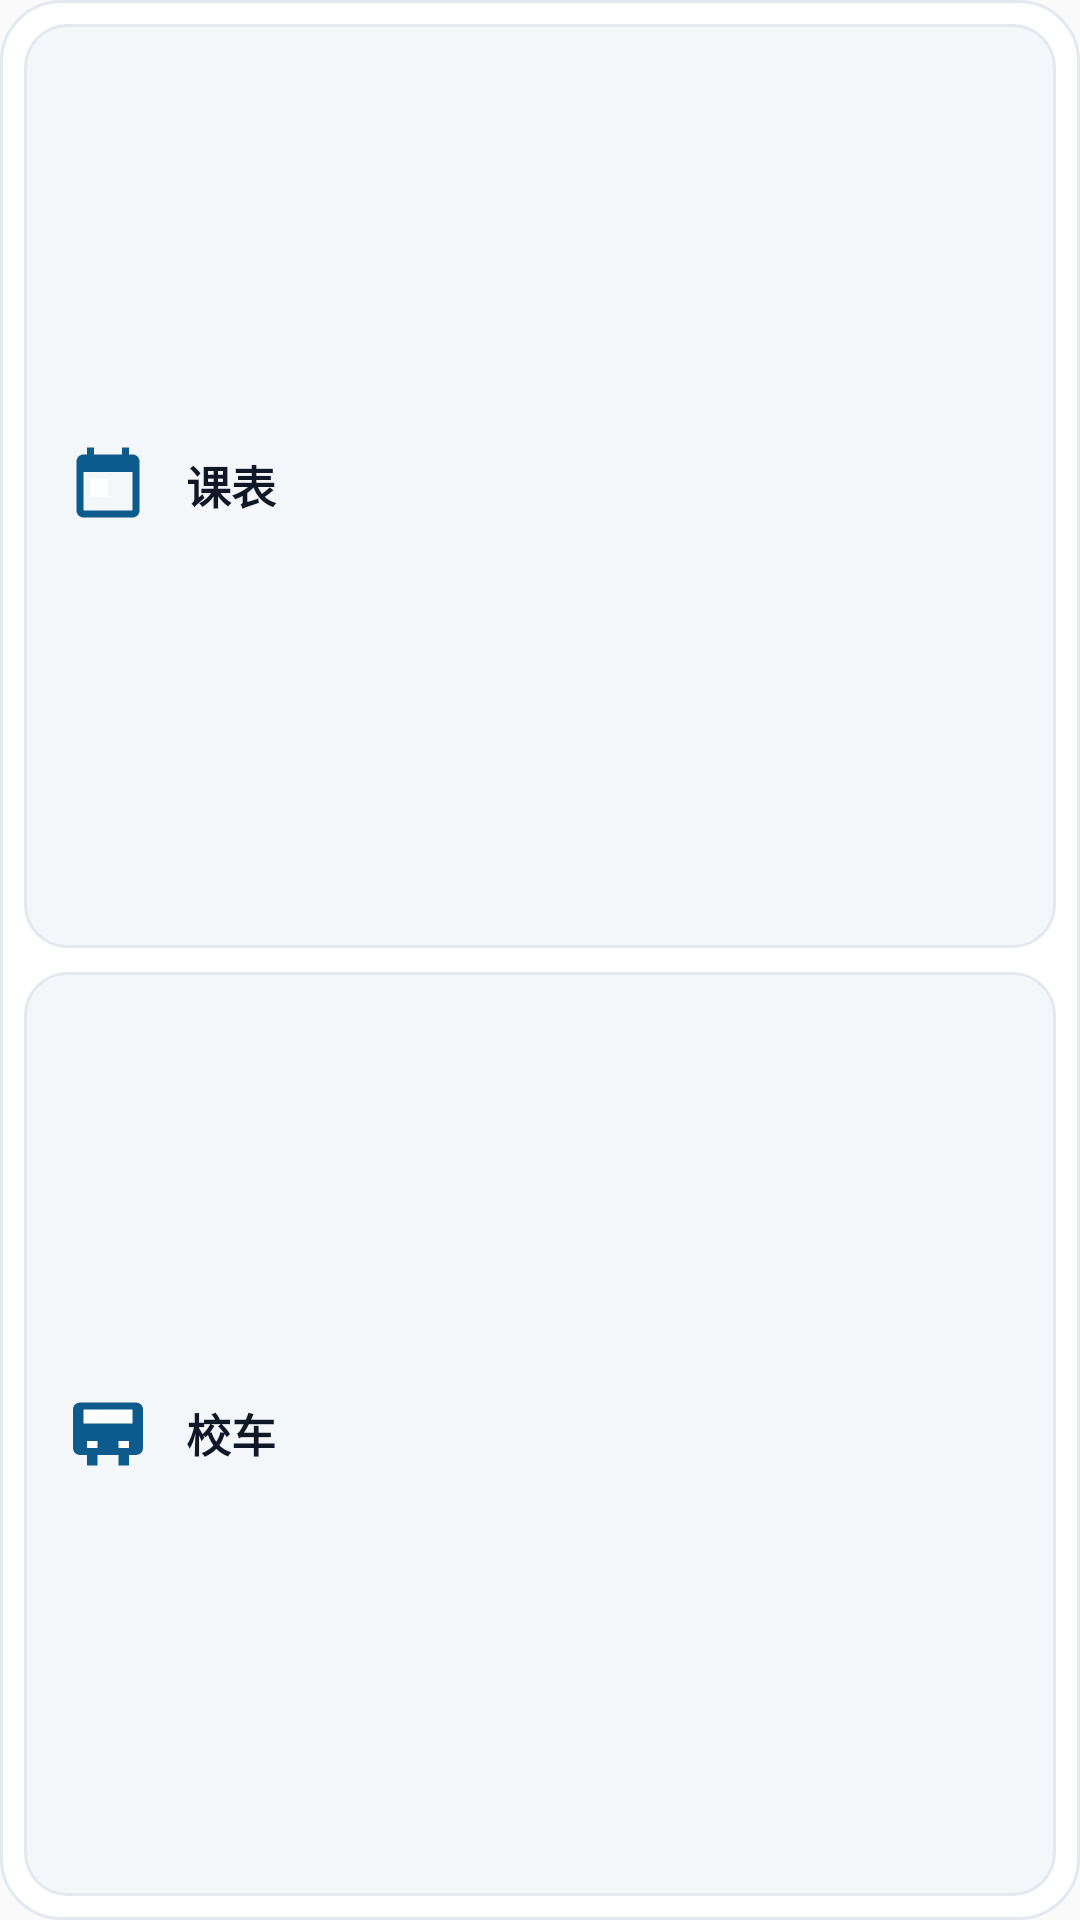

Named icons in this screenshot (1080w x 1920h) and their centers, [x,y]:
widget bus: [108,1434]
widget schedule: [108,482]
